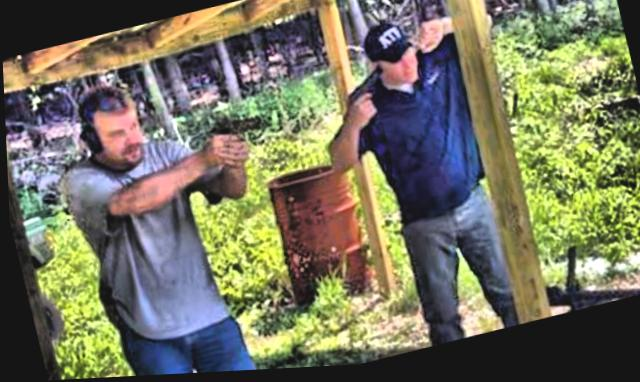pistol: (197, 98, 276, 172), (334, 64, 390, 125)
